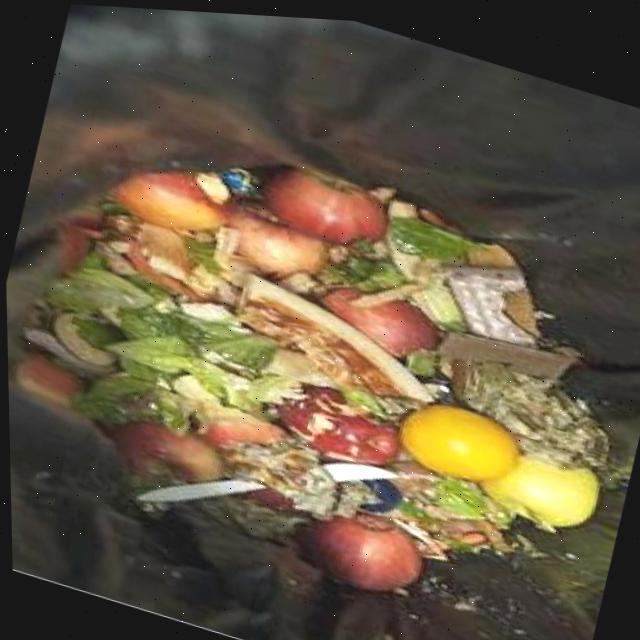Garbage: (5, 3, 640, 640)
Plastic: (445, 259, 533, 338)
